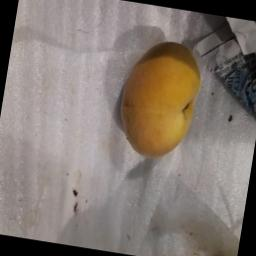Peach Ripe: (114, 34, 210, 162)
